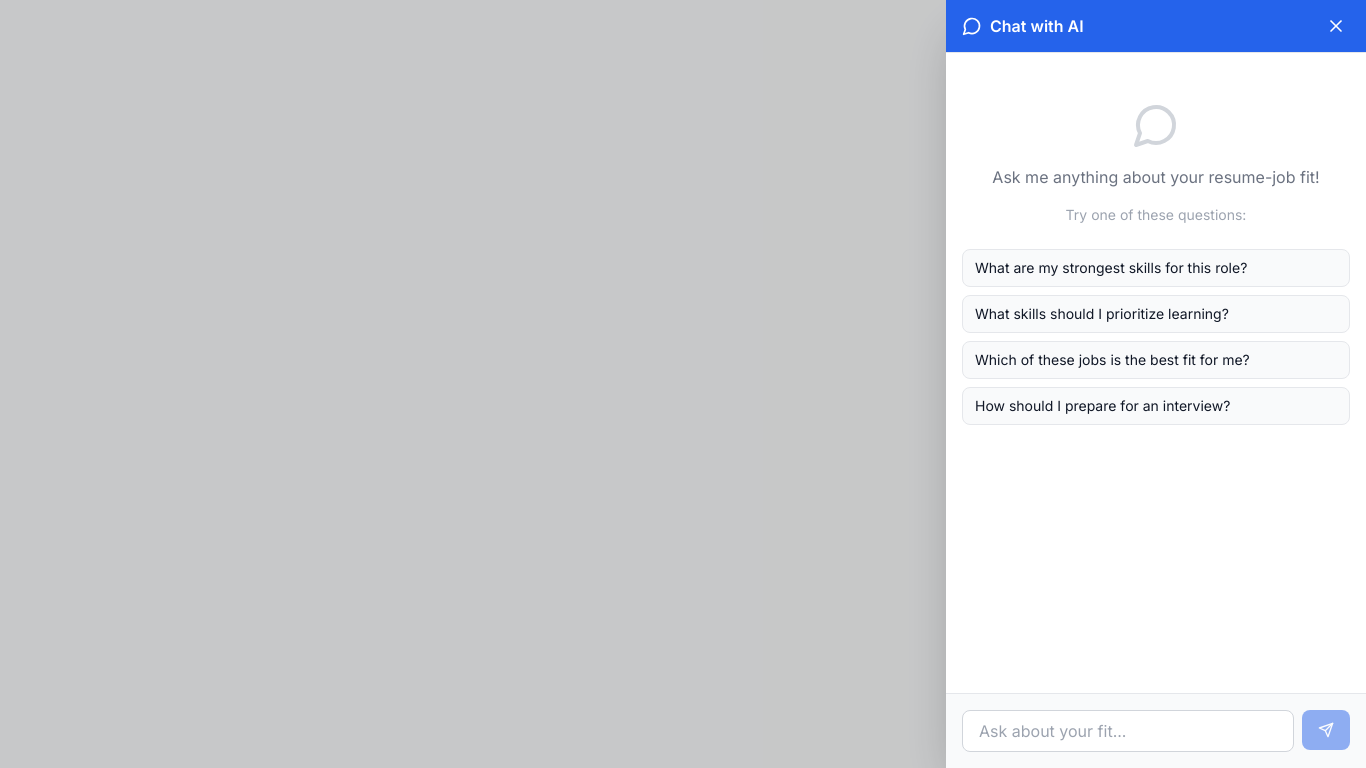
Test: ChatPanel › Messages › displays user message after sending
Type "My question" into the field with placeholder "Ask about your fit...".
click(1128, 731); type("My question")  # box [962,710,1294,752]
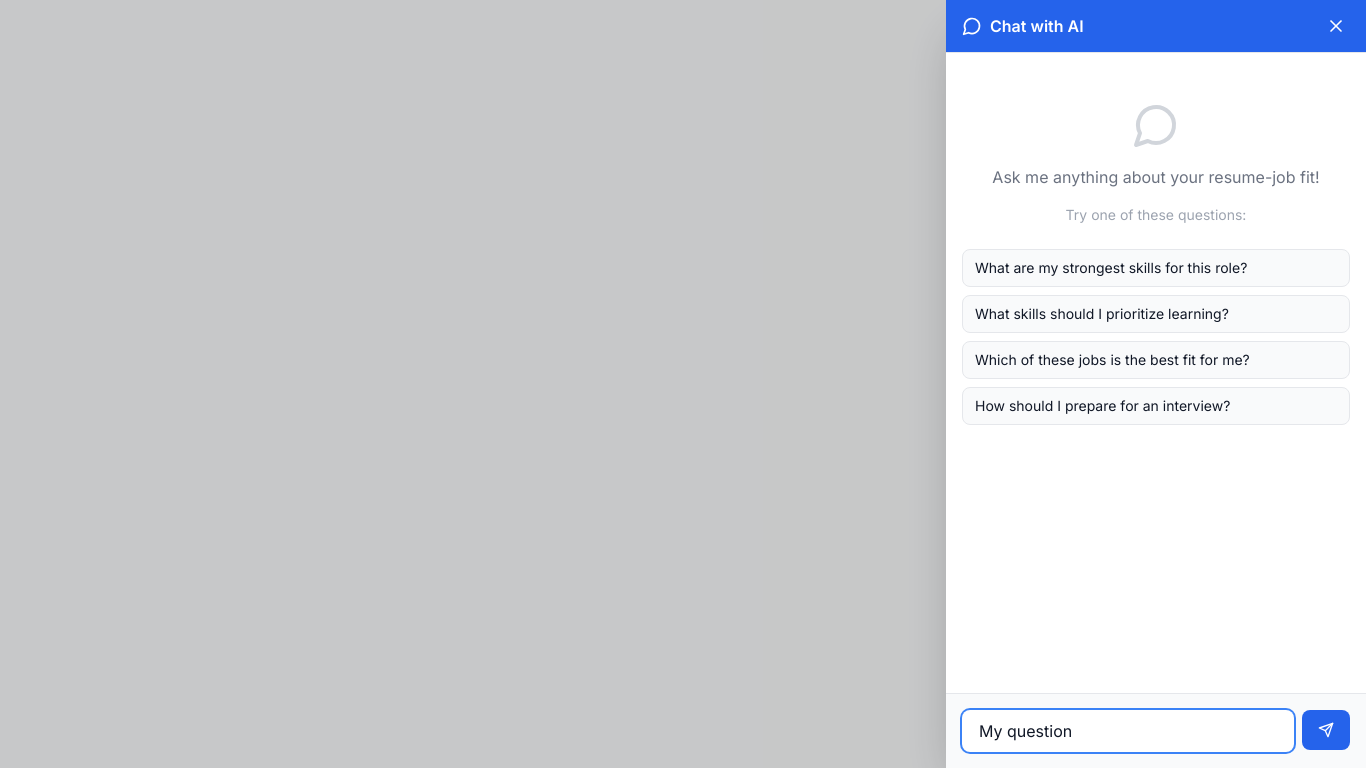
Press Enter
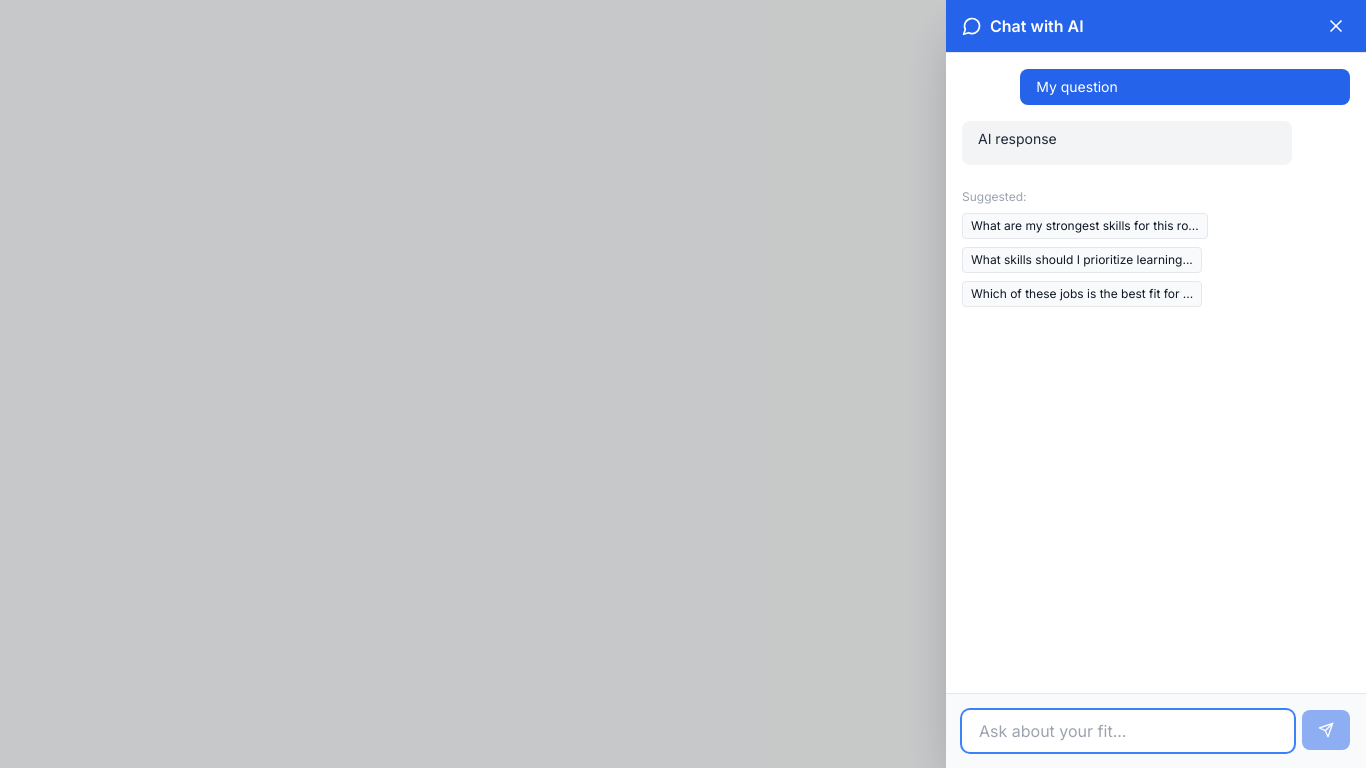
expect the text "My question" is shown: met, box [1036,78,1118,95]
